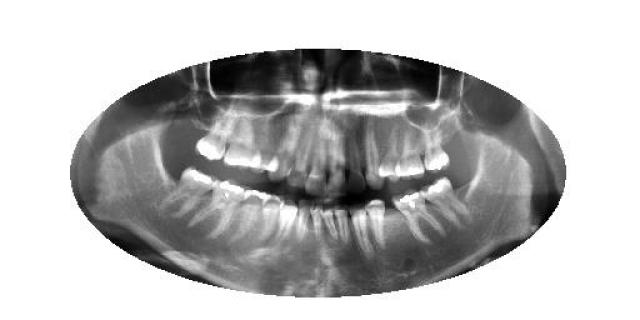Fillings: (391, 188, 445, 250), (189, 179, 246, 236), (165, 168, 219, 218), (421, 176, 469, 229), (234, 189, 265, 245), (196, 118, 232, 162)
